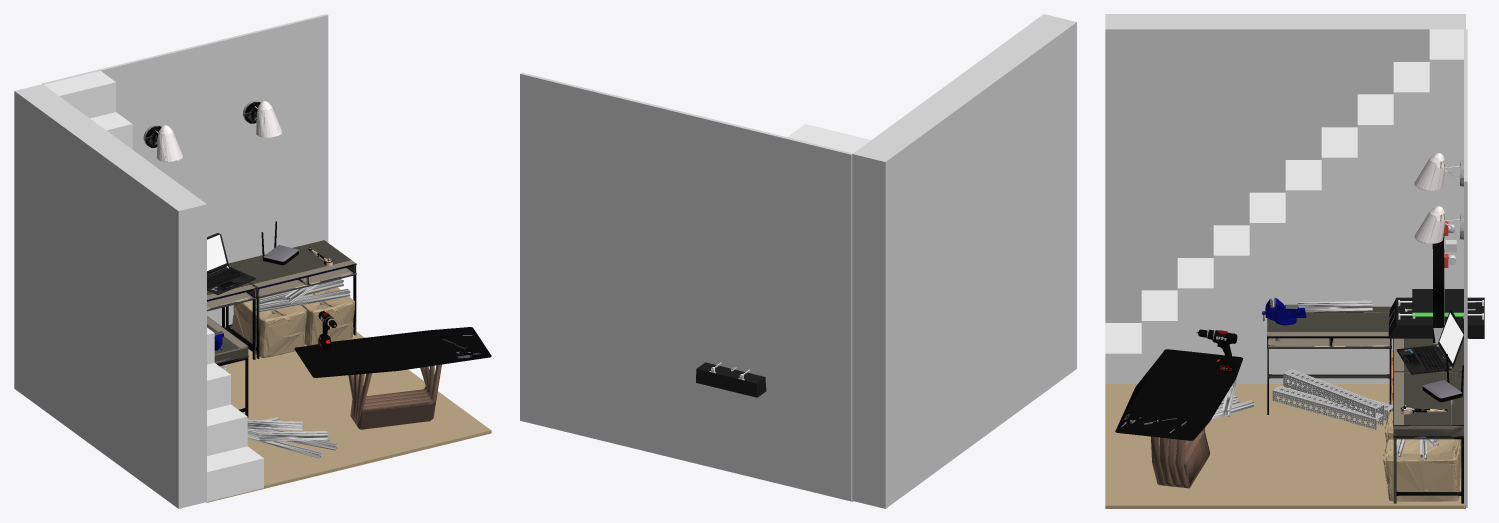
Rendered from sez5_room.glb.
3 views of the same model, side by side, from view 1: azimuth 30°, elevation 25°; view 2: azimuth 150°, elevation 25°; view 3: azimuth 270°, elevation 25° (orthographic). The views are drawn at different scales.
Visible parts, largest first — view 1: Cube.014, Cube.052, Cube.020, Cube.015, Box006.002, desk.007, Box001.002, cardboard_box_01_1k.008, cardboard_box_01_1k.009, desk.008, desk.009, lampa_perete.009 (+7 smaller); view 2: Cube.052, Cube.014, Cube_Black base_0.001, Cube.015; view 3: Cube.014, Cube.015, Cube.020, Box006.002, desk.009, desk.007, cardboard_box_01_1k.009, Box001.002, Cube_Black base_0.001, Cube.052, imagetostl_mesh.004, imagetostl_mesh.005 (+11 smaller).
Boxes of the visible parts, <box> form: Cube.014: <box>14,84,206,508</box>; Cube.052: <box>42,14,328,328</box>; Cube.020: <box>206,329,491,502</box>; Cube.015: <box>44,71,263,501</box>; Box006.002: <box>294,327,491,377</box>; desk.007: <box>226,240,356,358</box>; Box001.002: <box>348,364,441,429</box>; cardboard_box_01_1k.008: <box>232,300,306,357</box>; cardboard_box_01_1k.009: <box>301,287,354,345</box>; desk.008: <box>207,267,256,359</box>; desk.009: <box>207,316,248,417</box>; lampa_perete.009: <box>242,100,282,137</box>; Cube.052: <box>520,72,852,501</box>; Cube.014: <box>852,14,1076,508</box>; Cube_Black base_0.001: <box>696,362,766,397</box>; Cube.015: <box>787,124,870,153</box>; Cube.014: <box>1105,14,1465,322</box>; Cube.015: <box>1105,29,1463,383</box>; Cube.020: <box>1105,384,1465,508</box>; Box006.002: <box>1115,349,1243,440</box>; desk.009: <box>1267,306,1391,414</box>; desk.007: <box>1393,372,1463,503</box>; cardboard_box_01_1k.009: <box>1383,439,1460,501</box>; Box001.002: <box>1151,428,1209,488</box>; Cube_Black base_0.001: <box>1388,297,1484,338</box>; Cube.052: <box>1464,29,1467,507</box>; imagetostl_mesh.004: <box>1272,386,1383,429</box>; imagetostl_mesh.005: <box>1283,369,1384,417</box>.
Size of the model in its own units: 2.34 by 2.01 by 2.1.
Materials: 27 (9 with a texture image).
